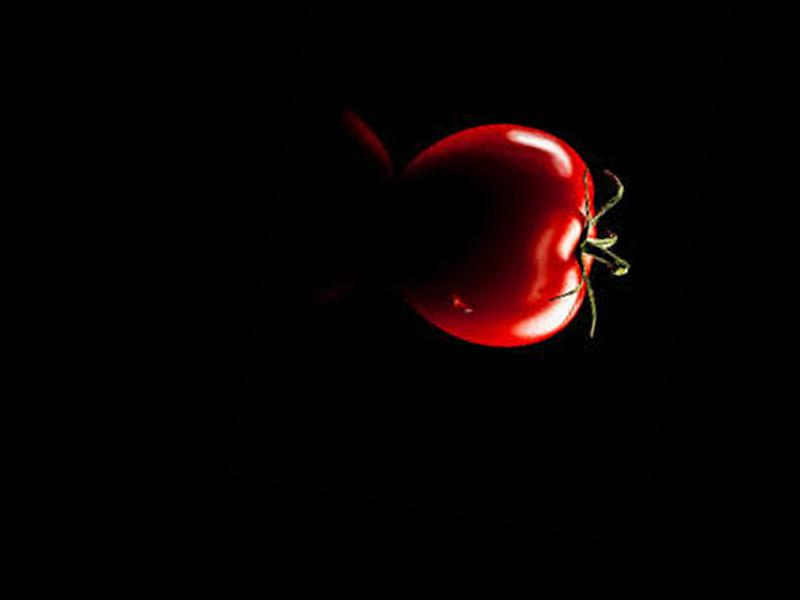Tomato: (381, 108, 619, 362)
